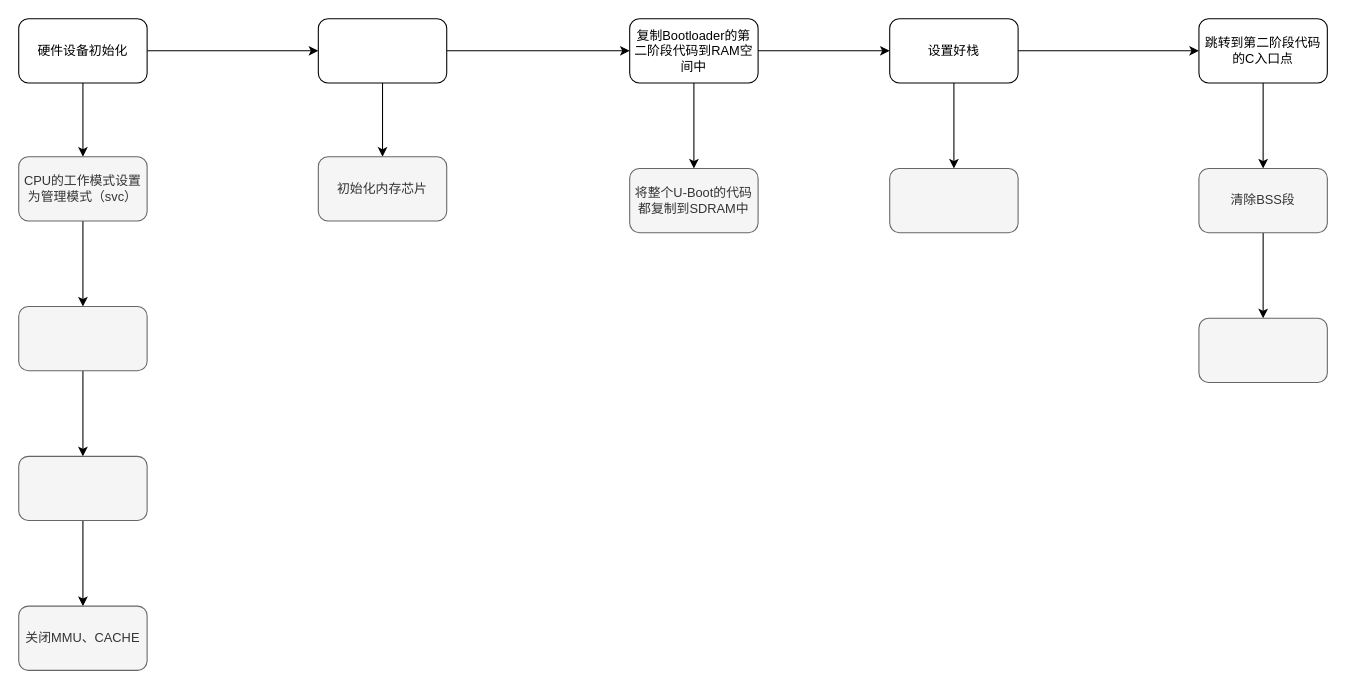
This 1346x689 diagram has some shape labels left out. Each missing label, with the centre of its shape:
为加载Bootloader的第二阶段代码准备RAM空间: the point at 382,50
关闭WATCHDOG: the point at 82,338
设置FCLK、HCLK、PCLK的比例（即设置CLKDIVN寄存器）: the point at 82,488
设置sp寄存器: the point at 953,200
调用lib_arm/board.c中的start_armboot函数: the point at 1262,350
